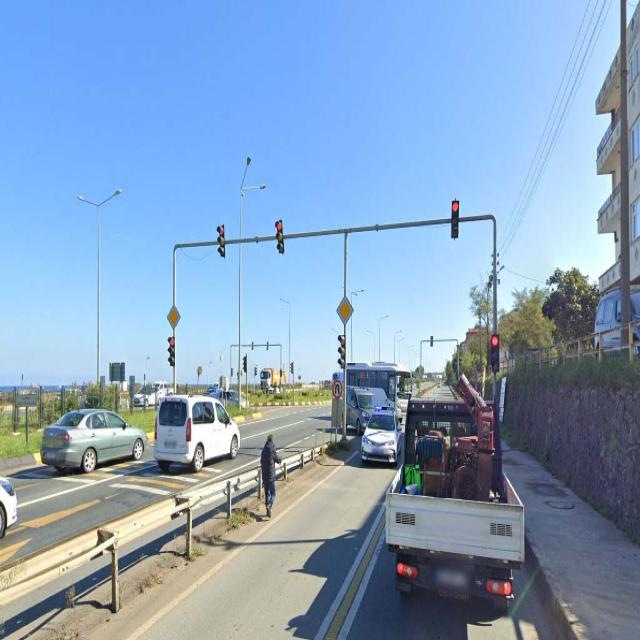kirmizi: (491, 334, 498, 373), (276, 220, 284, 250), (452, 201, 458, 239), (168, 337, 175, 367), (218, 227, 225, 256)
